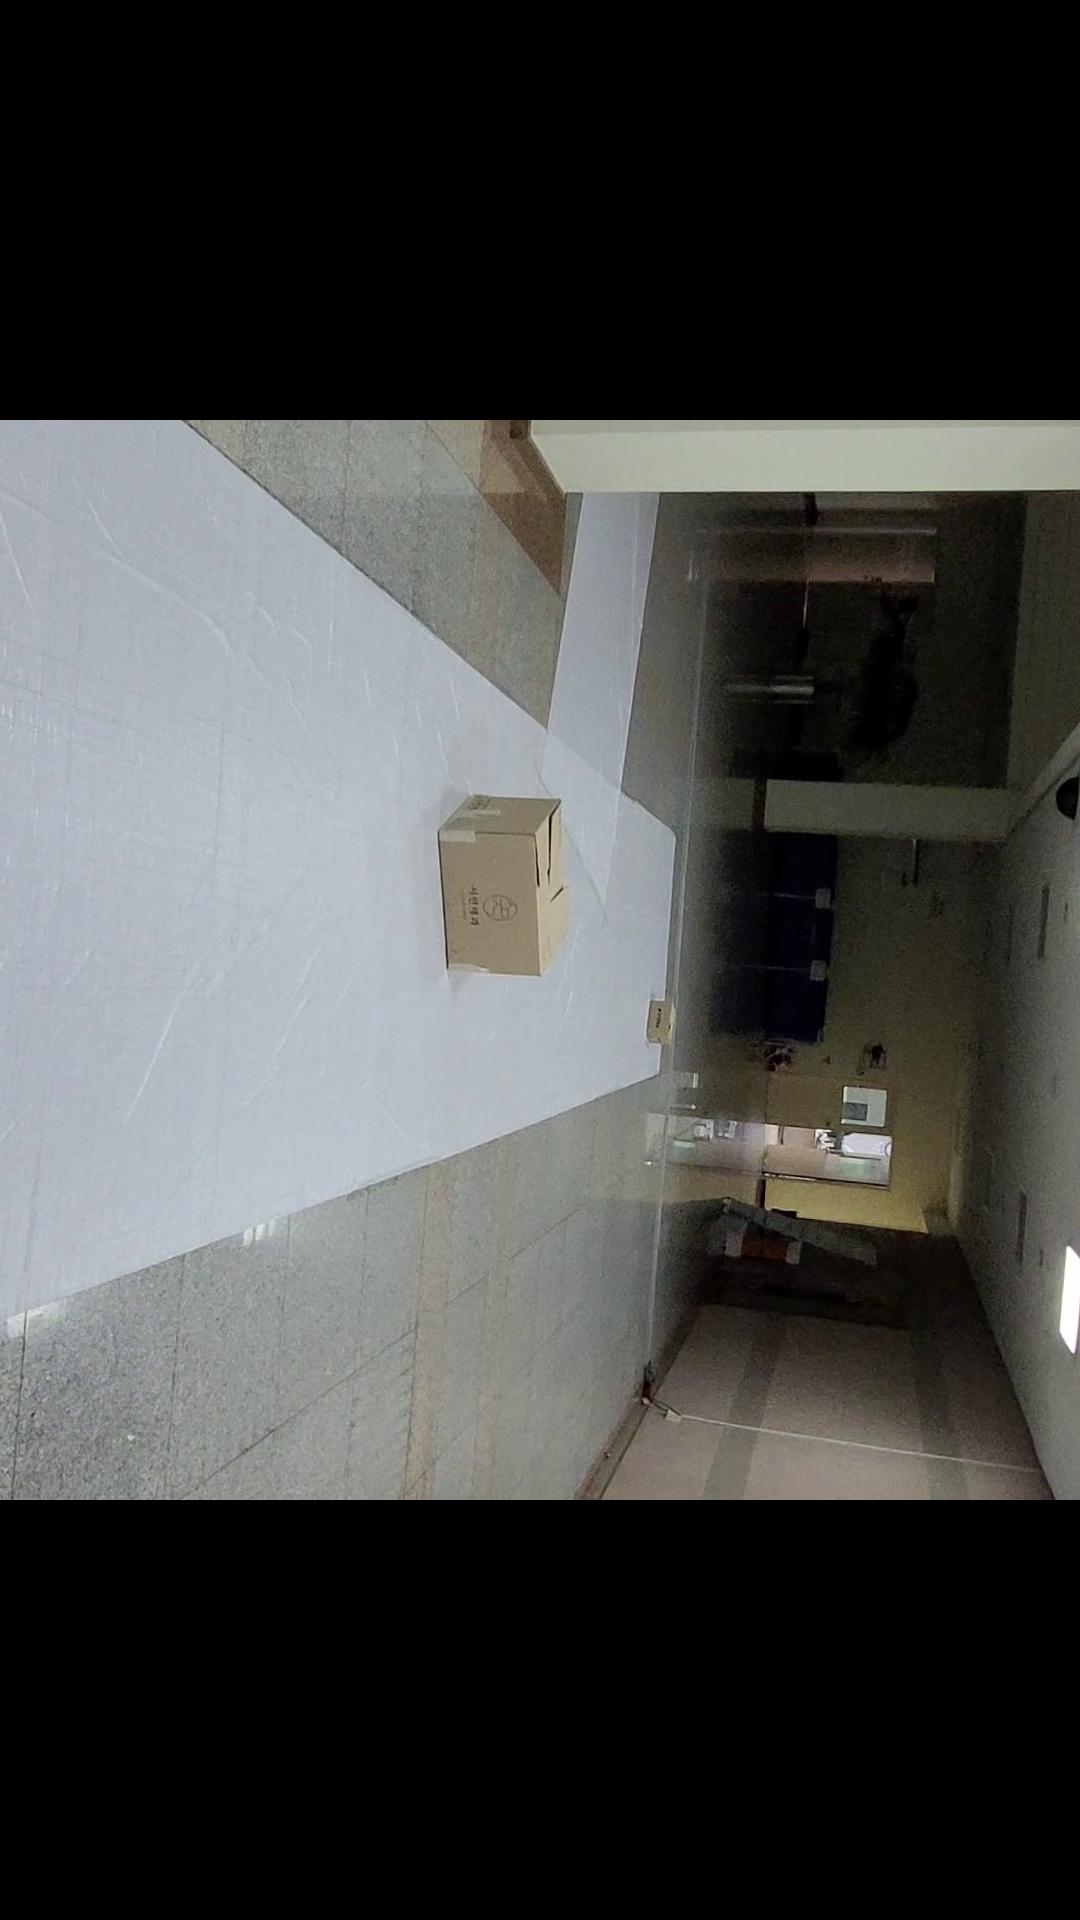Box: (427, 786, 582, 993), (642, 993, 682, 1052)
